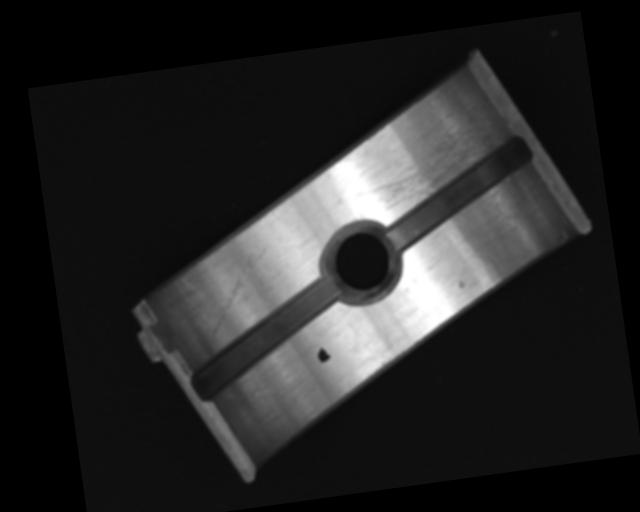blot: (316, 345, 332, 363)
bruise: (457, 279, 466, 289)
gap: (179, 275, 350, 403), (377, 135, 541, 252)
hole: (320, 218, 402, 305)
nick: (199, 246, 278, 338)
scratch: (350, 98, 511, 215)
